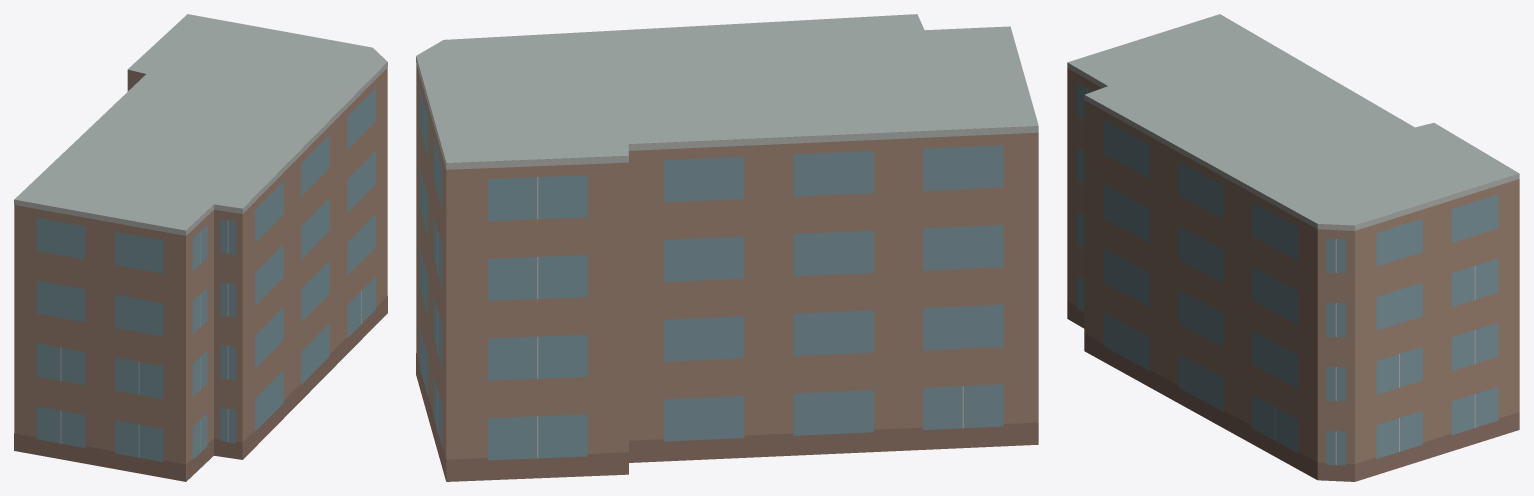
The model's file is survey-upis-32820277.glb.
The picture shows the model from 3 angles, left to right: view 1: azimuth 30°, elevation 25°; view 2: azimuth 150°, elevation 25°; view 3: azimuth 270°, elevation 25°; orthographic projection. The views are drawn at different scales.
Visible parts, largest first — view 1: survey-upis-32820277.tmp; view 2: survey-upis-32820277.tmp; view 3: survey-upis-32820277.tmp.
Part boxes in pixels (left/top/right/bottom): survey-upis-32820277.tmp: left=14, top=14, right=387, bottom=481; survey-upis-32820277.tmp: left=416, top=14, right=1038, bottom=481; survey-upis-32820277.tmp: left=1067, top=14, right=1519, bottom=481.
Bounding box in the file's own units: 20.35 × 11.5 × 18.39.
